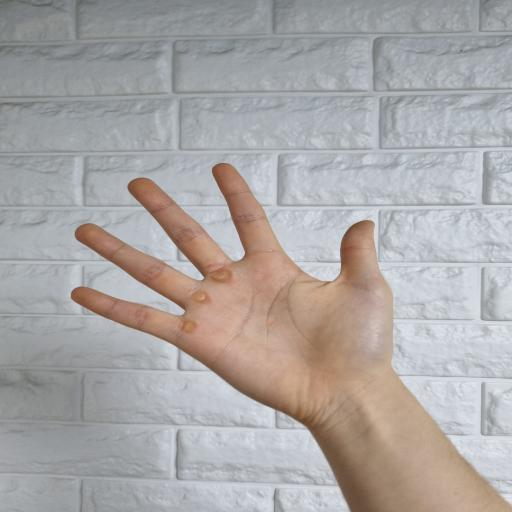Paper: (70, 162, 406, 444)
